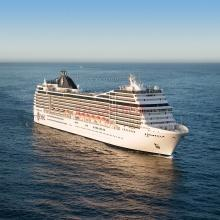youlun: (33, 67, 191, 158)
